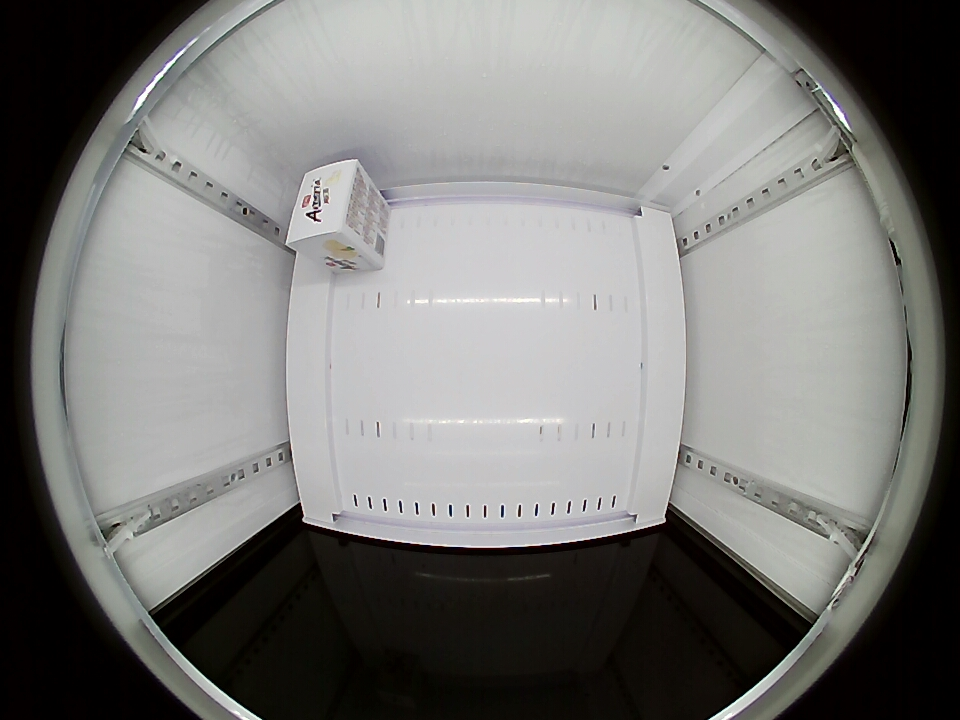meiniye: (285, 158, 371, 258)
